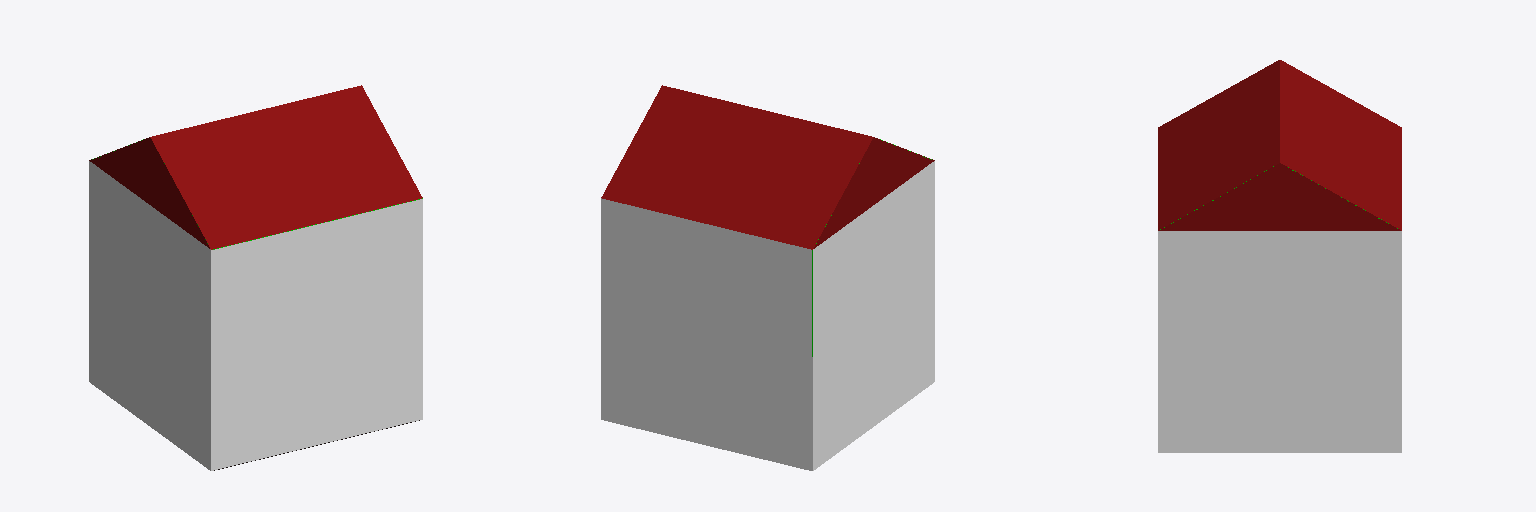
3 views of the same model, side by side, from view 1: azimuth 30°, elevation 25°; view 2: azimuth 150°, elevation 25°; view 3: azimuth 270°, elevation 25° (orthographic).
Parts seen in each view (by area): view 1: cube2; view 2: cube2; view 3: cube2.
Boxes of the visible parts, x1,y1,x2,y2 form: cube2: [89, 85, 422, 470]; cube2: [601, 85, 934, 470]; cube2: [1158, 60, 1401, 452].
Bounding box in the file's own units: 1 × 1.31 × 1.
1 materials, 1 textured.